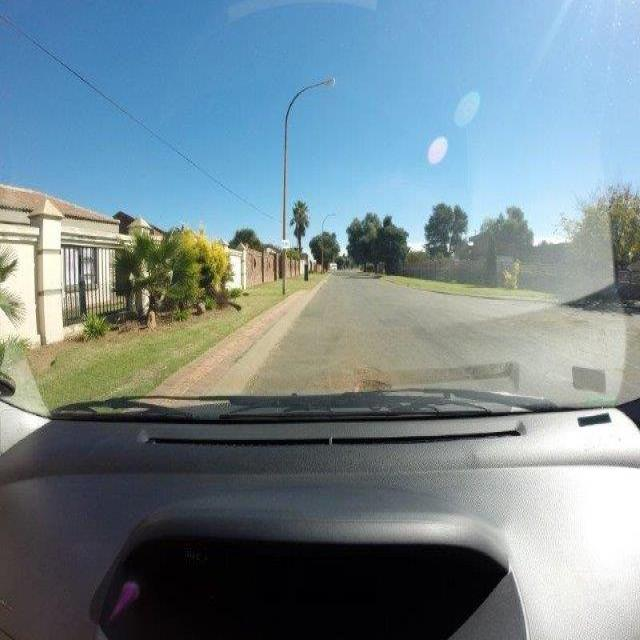lubang: (346, 366, 396, 393)
